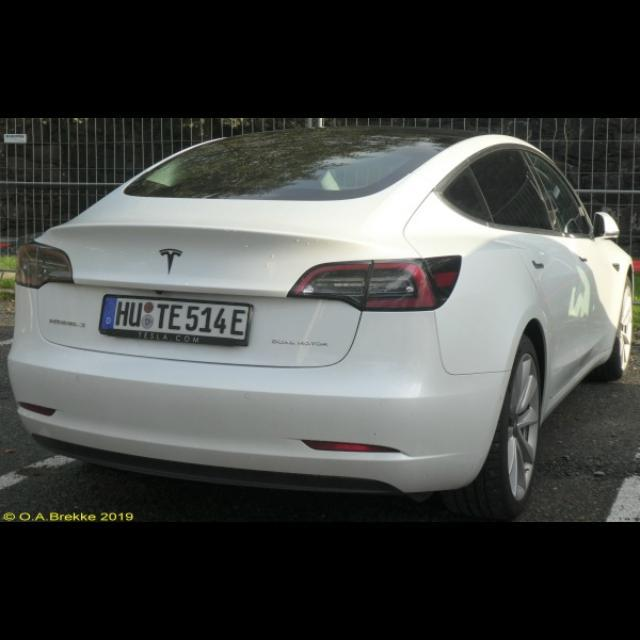license-plates: (99, 295, 252, 344)
